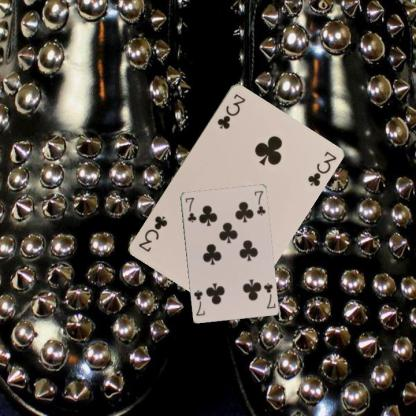3c: (214, 91, 247, 130)
7c: (261, 280, 277, 310), (183, 195, 197, 223)
